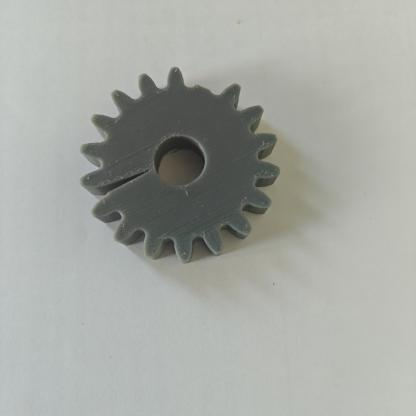defect: (81, 148, 174, 230), (179, 52, 252, 128)
gear: (72, 42, 306, 291)
